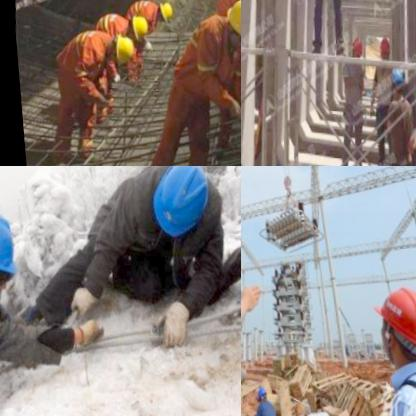helmet: (147, 166, 214, 249), (364, 282, 416, 373), (0, 199, 27, 313), (377, 67, 407, 116), (219, 0, 241, 55), (100, 33, 131, 67), (343, 31, 363, 71), (120, 14, 146, 42), (149, 1, 173, 28), (369, 38, 388, 69), (250, 384, 262, 408)
